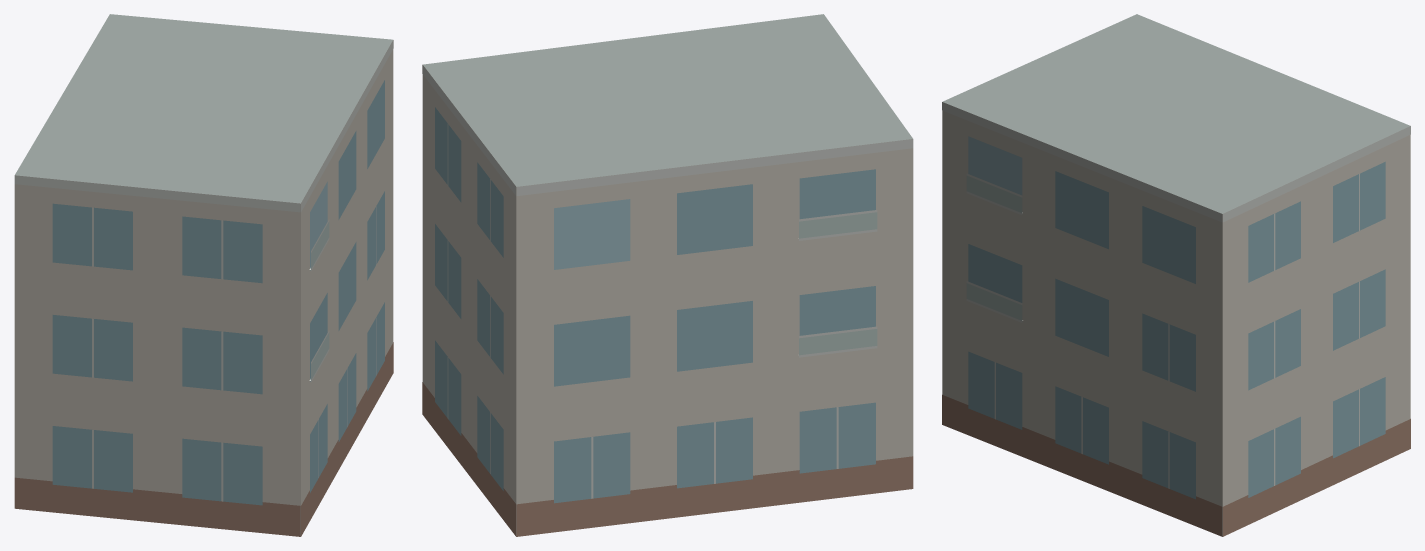
The model's file is survey-upis-33040391.glb.
The picture shows the model from 3 angles, left to right: view 1: azimuth 30°, elevation 25°; view 2: azimuth 150°, elevation 25°; view 3: azimuth 270°, elevation 25°; orthographic projection. The views are drawn at different scales.
Visible parts, largest first — view 1: survey-upis-33040391.tmp; view 2: survey-upis-33040391.tmp; view 3: survey-upis-33040391.tmp.
Part boxes in pixels (left/top/right/bottom): survey-upis-33040391.tmp: left=14, top=14, right=393, bottom=536; survey-upis-33040391.tmp: left=422, top=14, right=913, bottom=536; survey-upis-33040391.tmp: left=942, top=14, right=1410, bottom=536.
Size of the model in its own units: 12.16 by 9.15 by 12.05.
